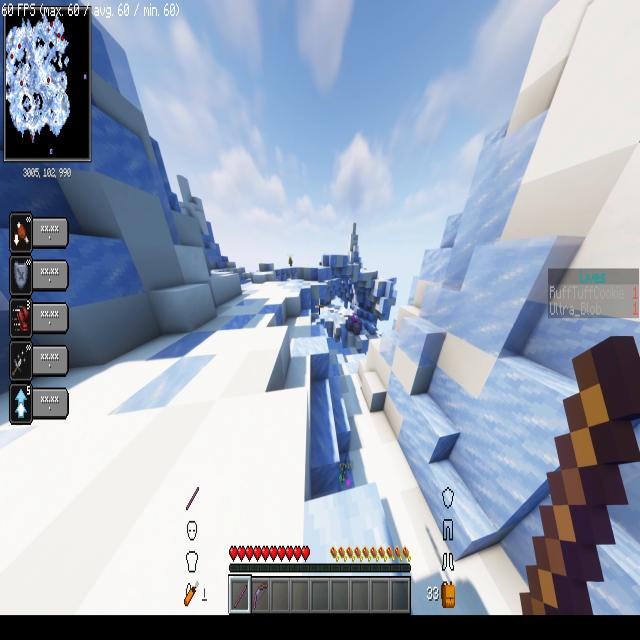Player: (287, 251, 296, 274)
